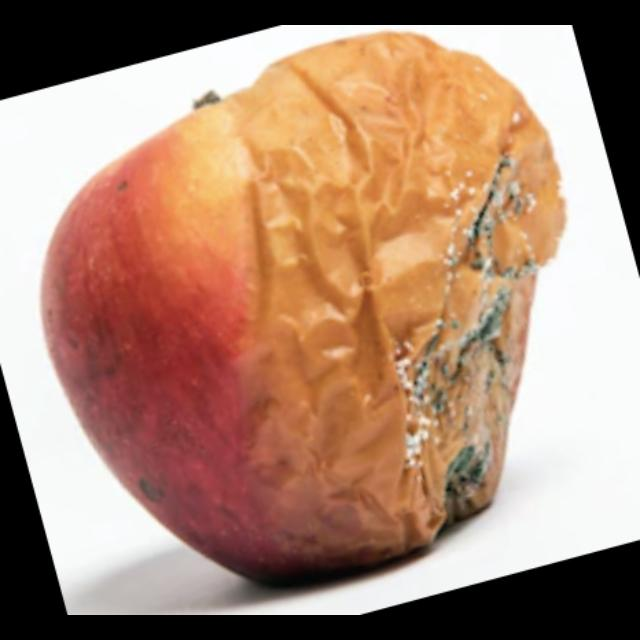Apel Tidak Segar: (44, 40, 570, 588)
